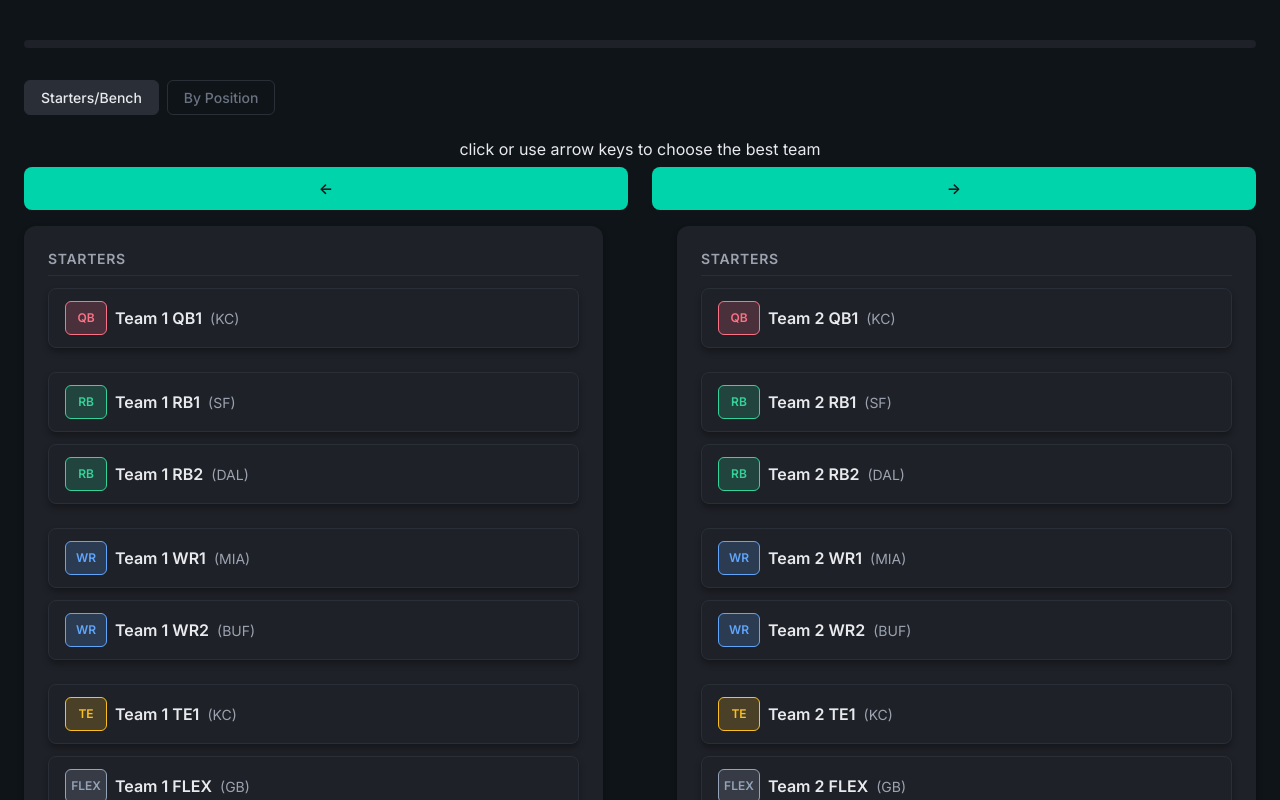
ComparisonFlow › full flow test: make comparisons until complete
The image size is (1280, 800).
Expected: the text "click or use arrow keys to choose the best team" is shown, [460, 139, 821, 159]
// Click left arrow to make comparison
Click the button named "select left team".
click(326, 188)  # box [24, 167, 628, 210]
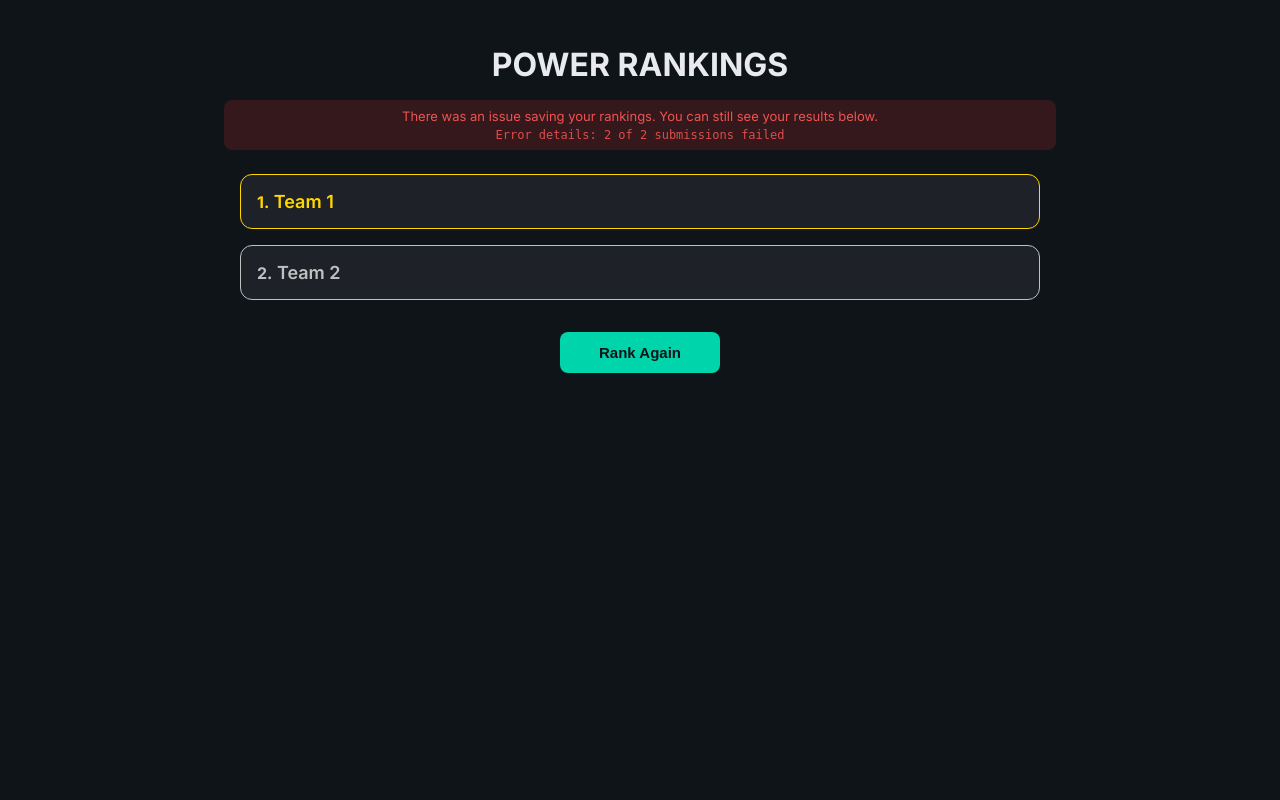
Result: the heading "POWER RANKINGS" is shown at [492, 45, 788, 84]
